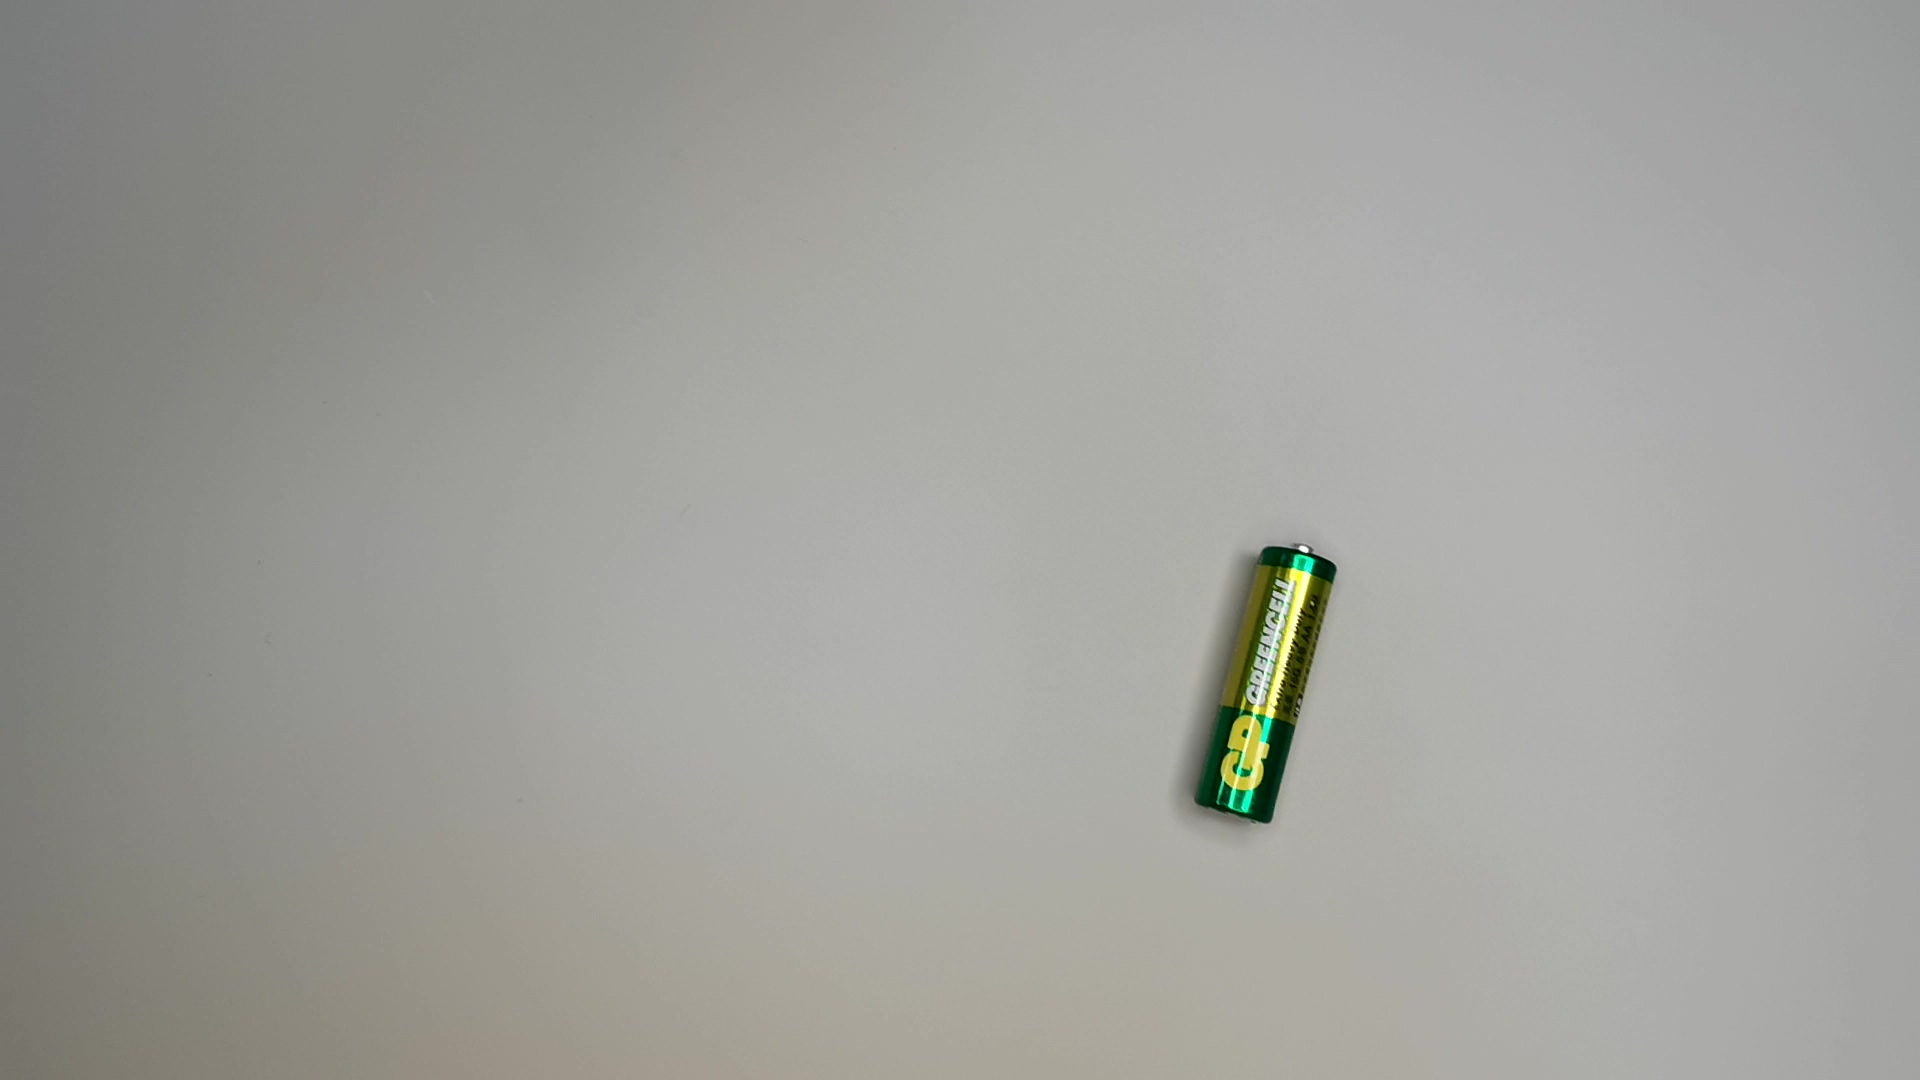battery: (1191, 531, 1340, 837)
